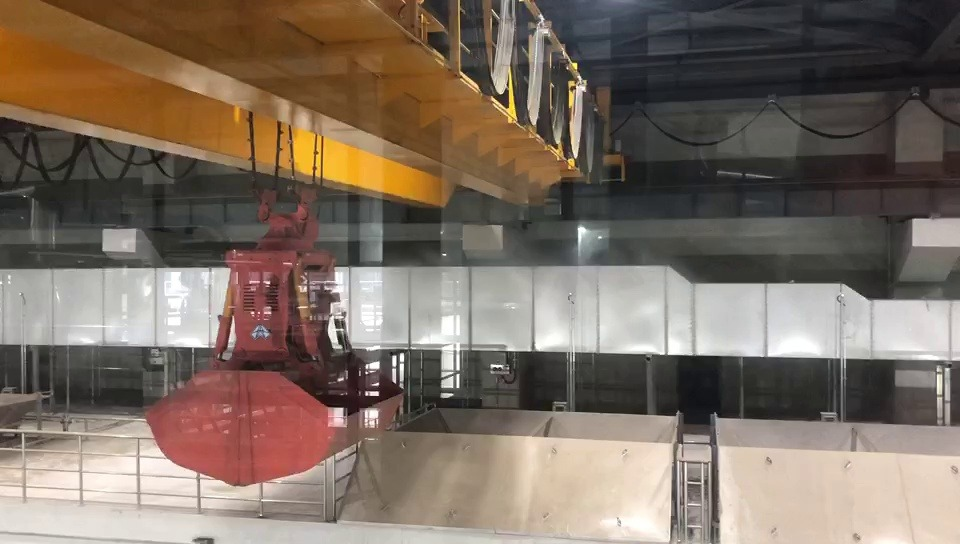grab: (139, 181, 408, 489)
